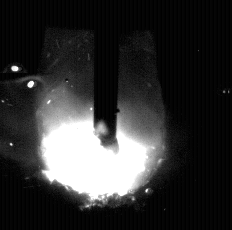arame: (94, 0, 118, 152)
poca: (37, 0, 167, 230)
